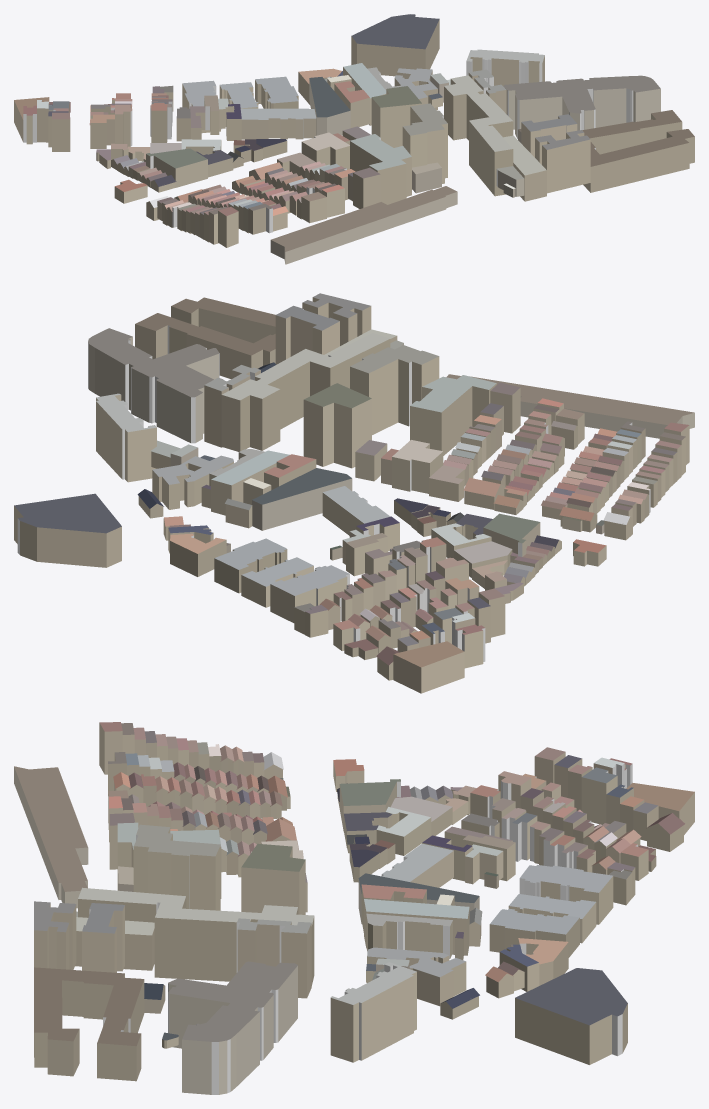
3 views of the same model, one above another, from view 1: azimuth 30°, elevation 25°; view 2: azimuth 150°, elevation 25°; view 3: azimuth 270°, elevation 25° (orthographic). The views are drawn at different scales.
Parts seen in each view (by area): view 1: tuile; view 2: tuile; view 3: tuile.
Part boxes in pixels (x1,y1,x2,y2): tuile: (14,14,694,264); tuile: (14,293,694,693); tuile: (14,722,694,1094).
Bounding box in the file's own units: 288 × 51.58 × 260.
